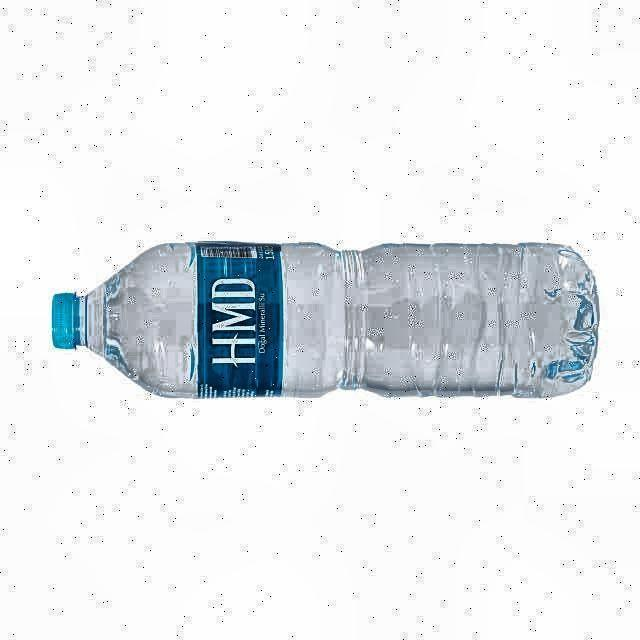plastic: (51, 244, 599, 397)
